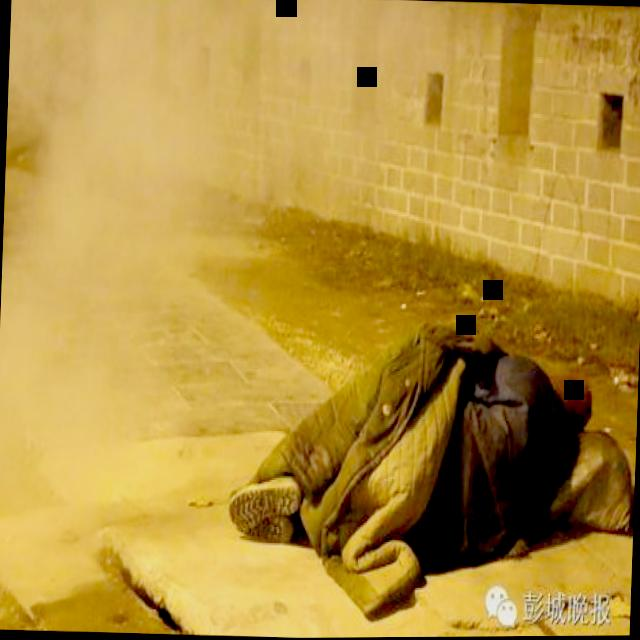Fall-Detected: (210, 290, 620, 615)
